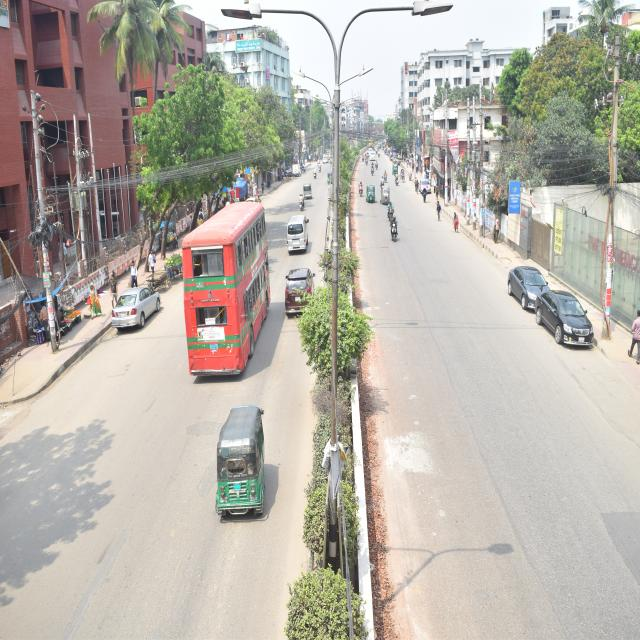bus: (180, 198, 272, 376)
car: (536, 284, 599, 353), (113, 276, 162, 338), (507, 256, 549, 313), (282, 260, 317, 326)
microbus: (283, 209, 313, 257)
motorbike: (386, 216, 400, 248), (295, 191, 309, 212), (356, 179, 366, 203), (386, 202, 396, 220)
